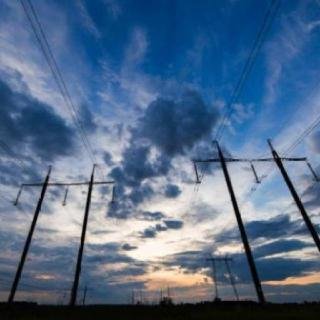Cirrocumulus: (0, 0, 319, 288)
